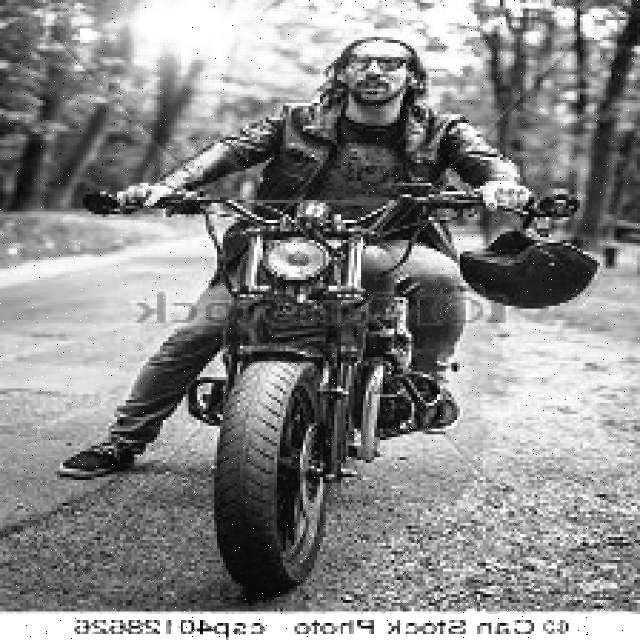Bike: (162, 191, 448, 592)
